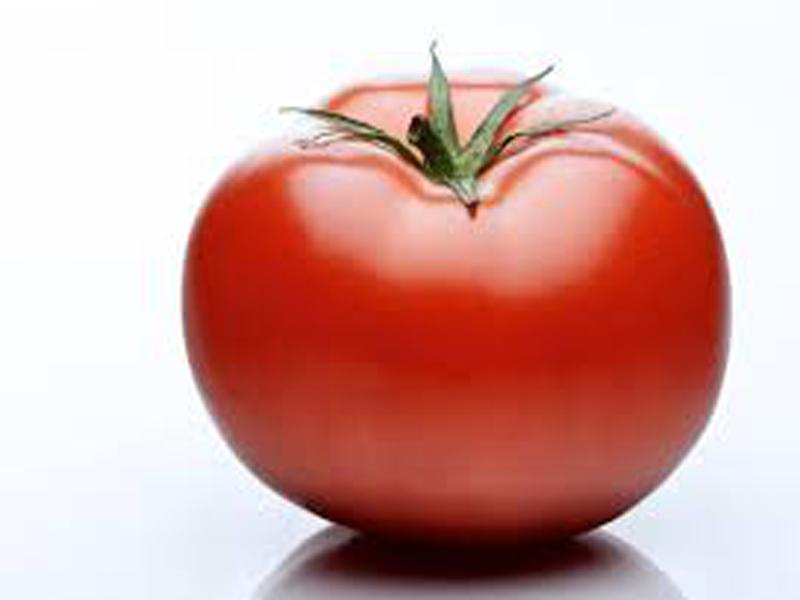Tomato: (184, 75, 731, 538)
